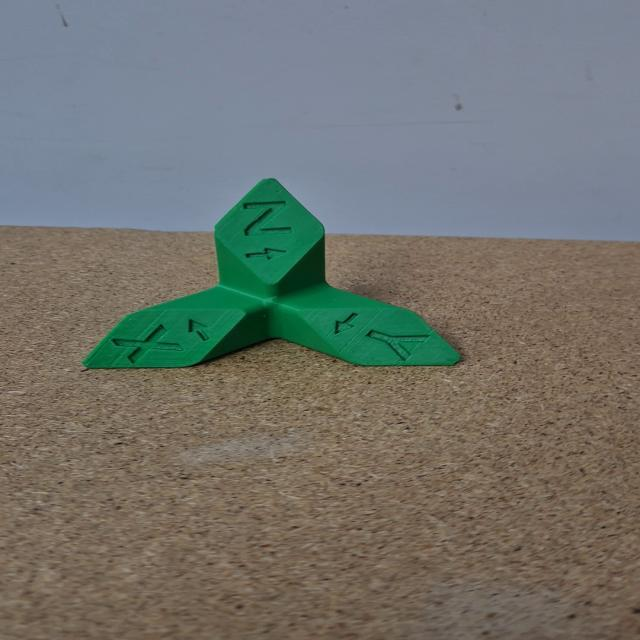objects: (83, 173, 470, 374)
